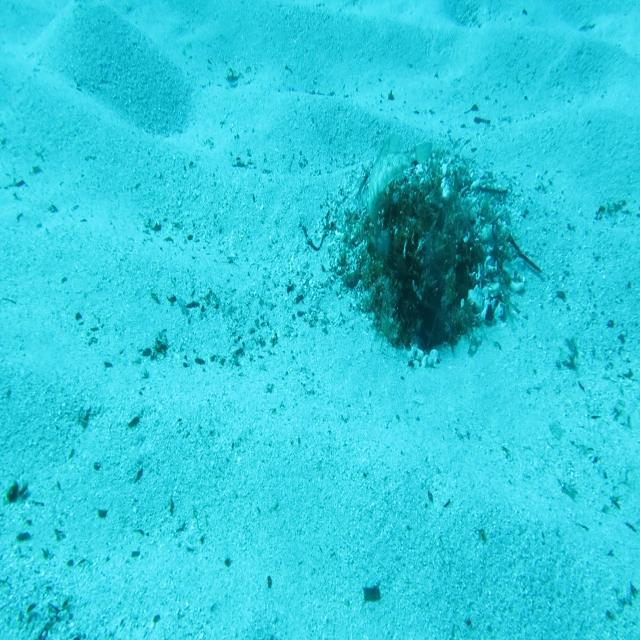NIP_IN: (364, 131, 436, 229)
core_nest: (394, 199, 454, 236)
nest: (322, 138, 537, 380)
